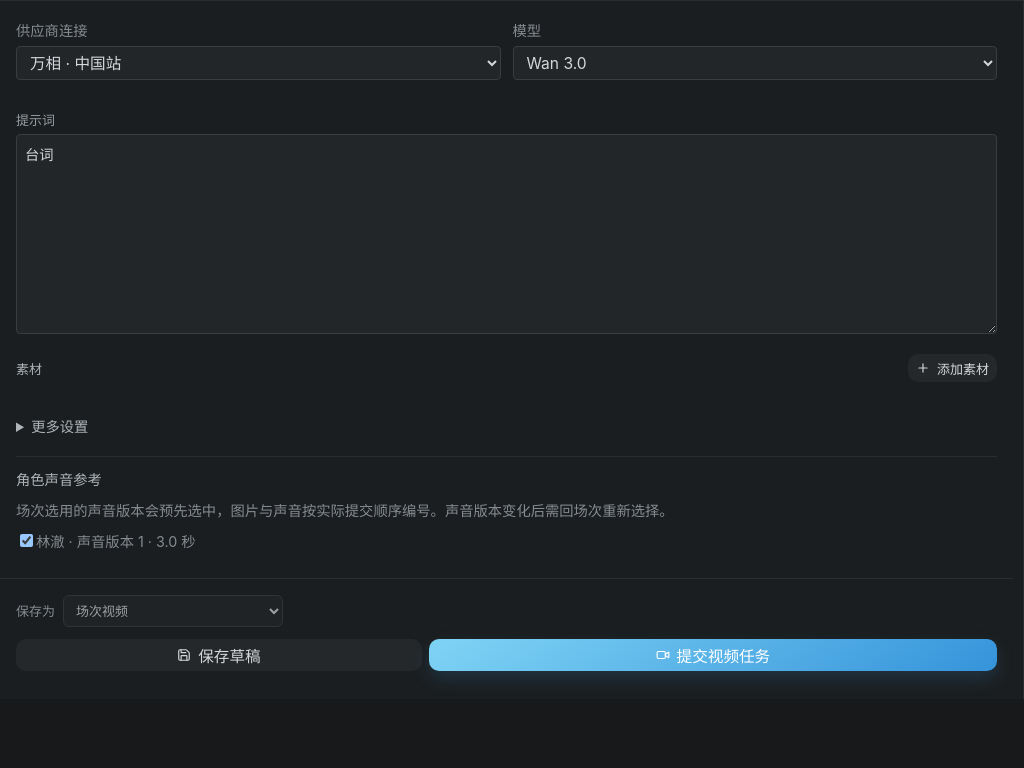
scene production bindings › blocks stale voices without silently switching to the newest sample
expect the checkbox labelled "林澈 · 声音版本 1 · 3.0 秒" is shown: met, box [20,534,33,547]
Click the button "提交视频任务" at (713, 655), box [429,639,997,671]
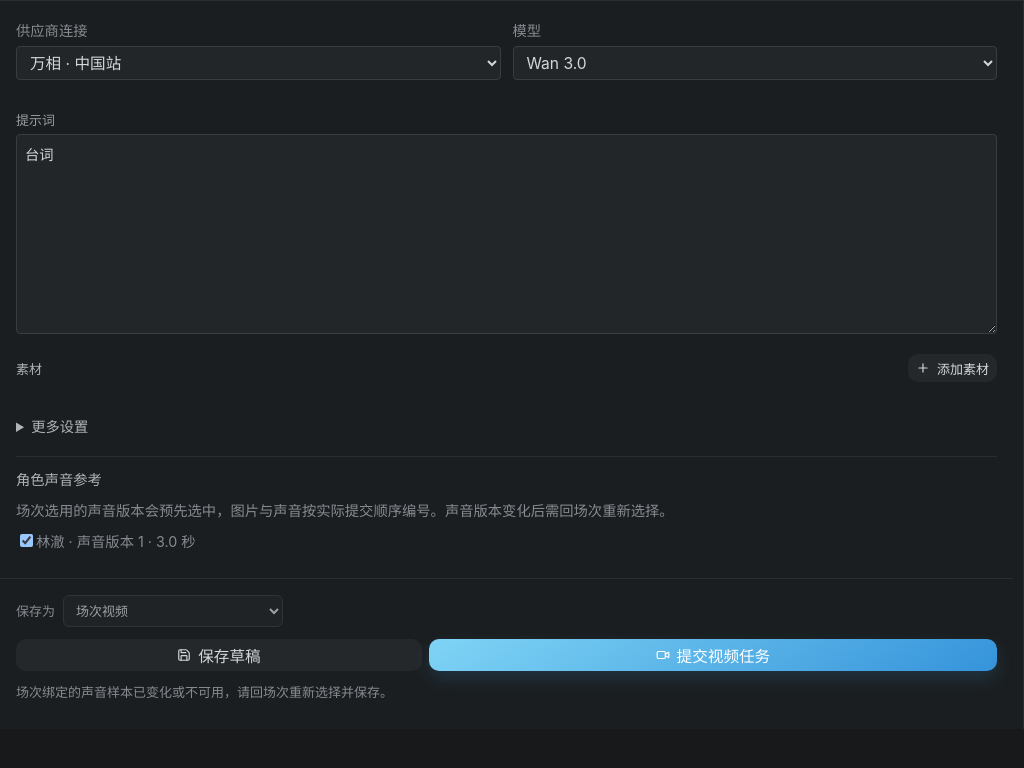
expect the text "场次绑定的声音样本已变化或不可用，请回场次重新选择并保存。" is shown: met, box [16,684,393,700]
